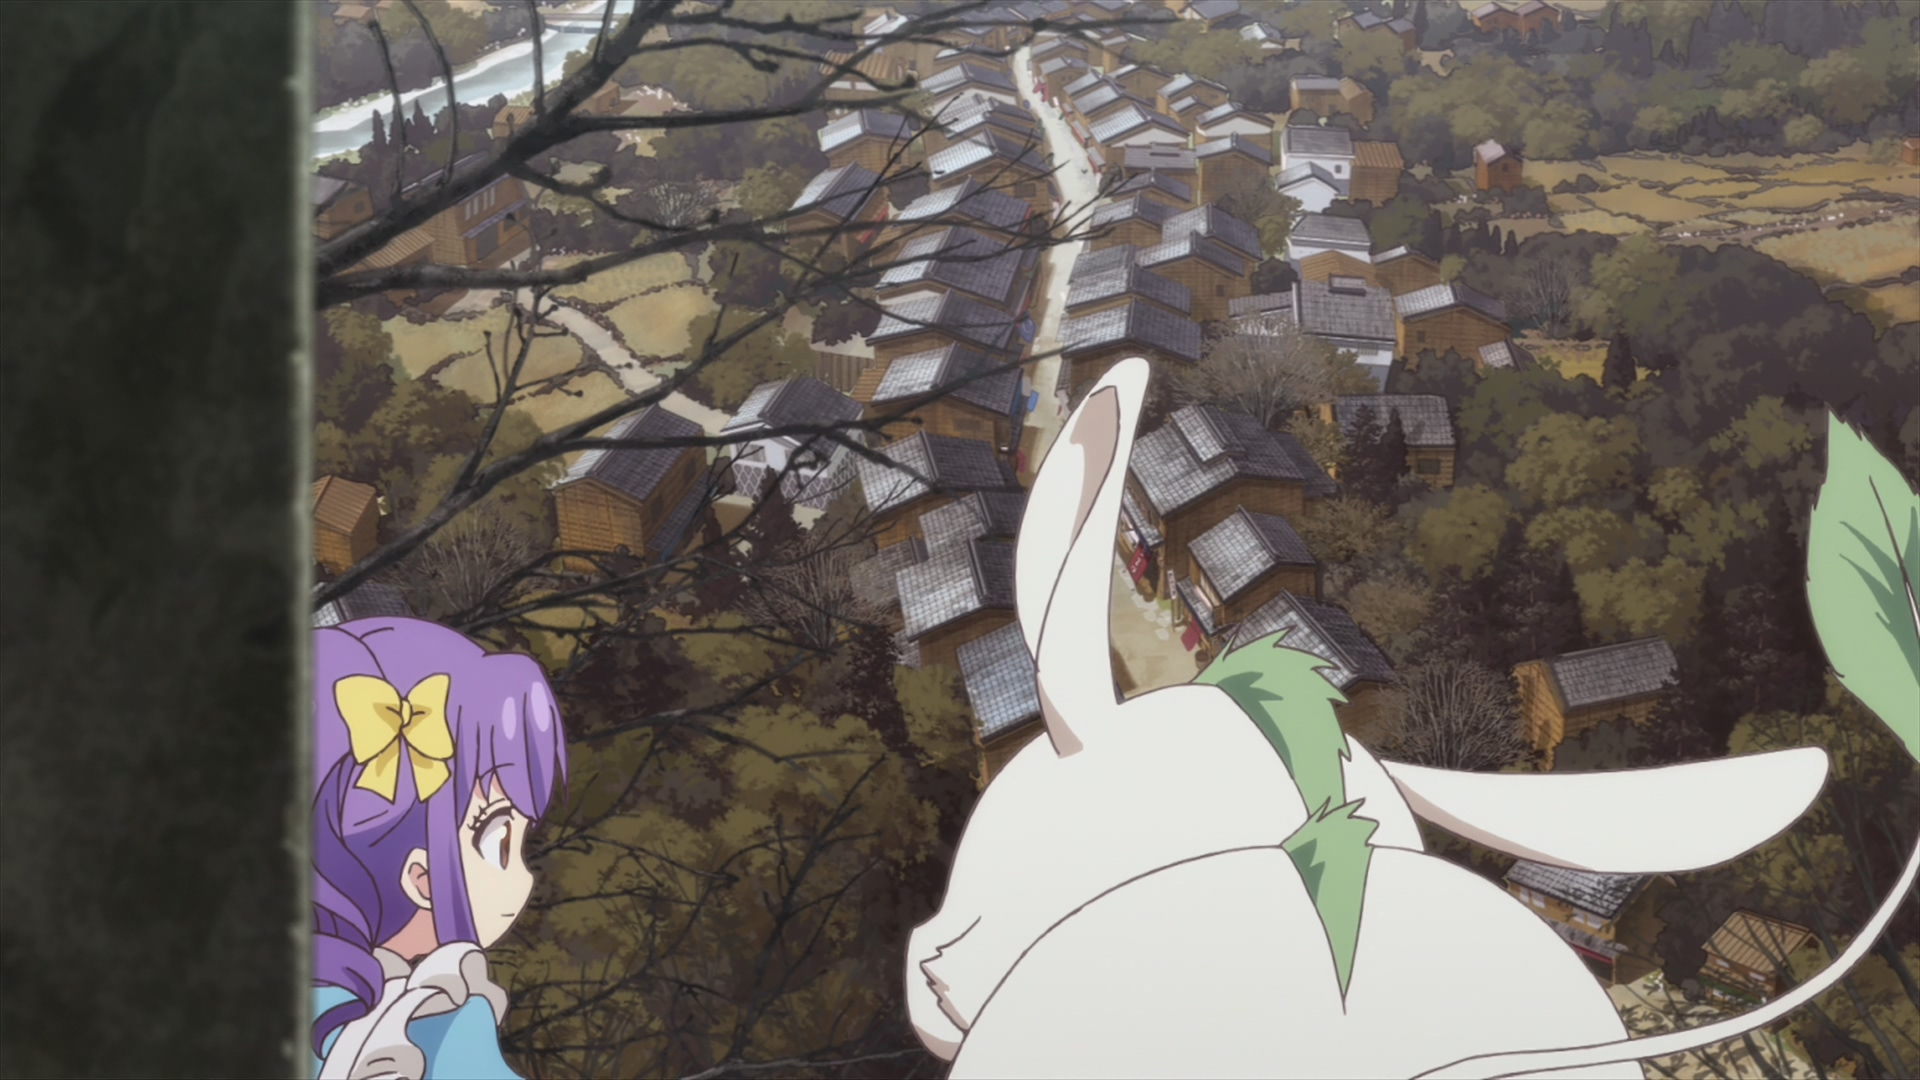瓜之介: (905, 357, 1920, 1080)
阿菊: (313, 617, 567, 1080)
